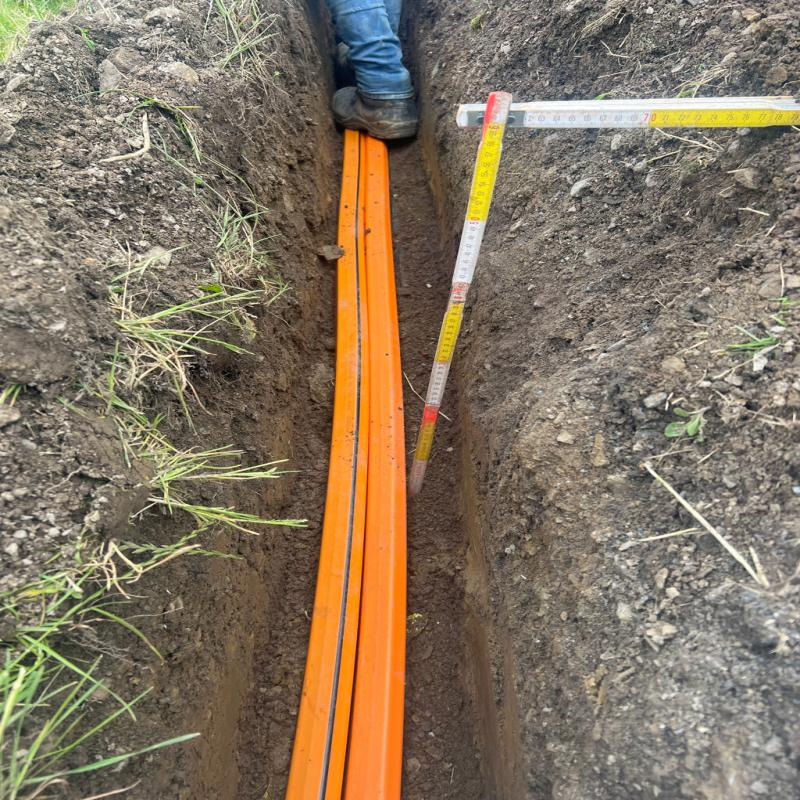Orang-Speednetrohrchen: (284, 127, 410, 795)
